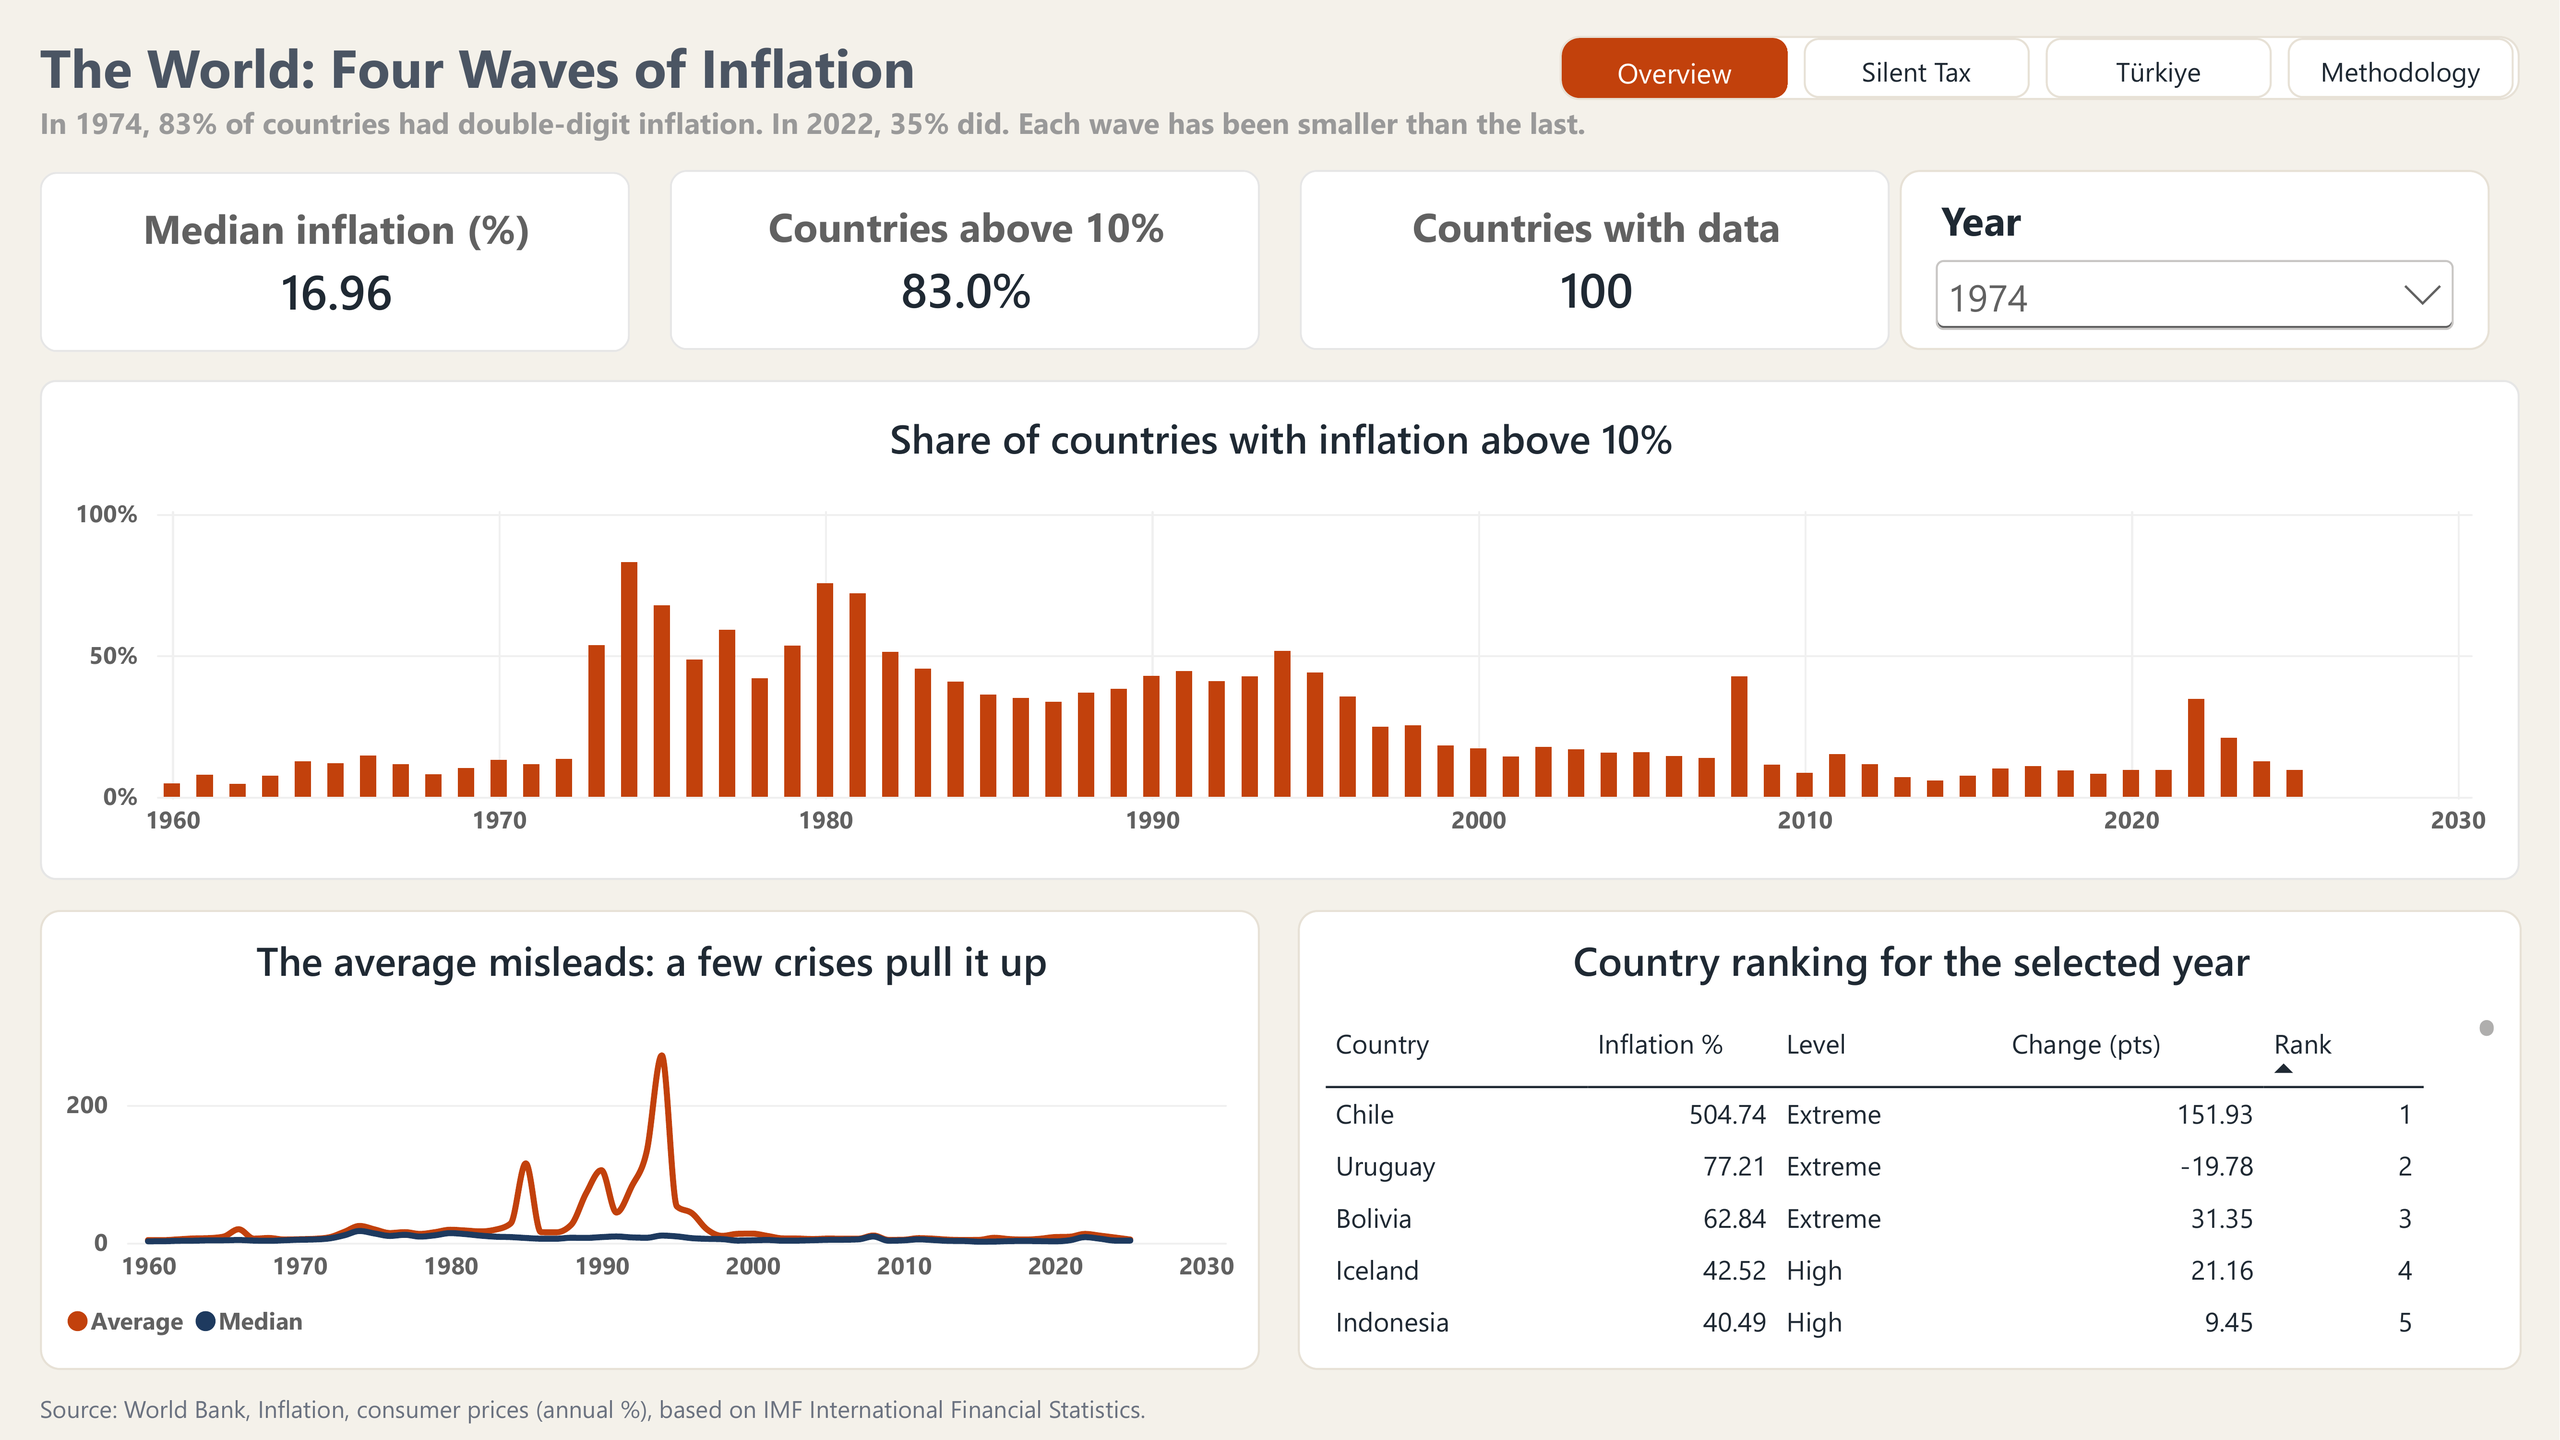

This screenshot's page, from the dashboard's own definition file:
{"tool":"powerbi","page":{"name":"Overview","canvas":[1280,720],"ordinal":0},"visuals":[{"type":"cardVisual","fields":{"Data":["Inflation.% Countries Above 10%"]},"box":[335,85,295,90],"z":0},{"type":"cardVisual","fields":{"Data":["Inflation.Medina Inflation"]},"box":[20,86,295,90],"z":1000},{"type":"lineChart","title":"The average misleads: a few crises pull it up","fields":{"Category":["Calendar.Year"],"Y":["Inflation.AVG Inflation","Inflation.Medina Inflation"]},"box":[20,455,610,230],"z":2000},{"type":"clusteredColumnChart","title":"Share of countries with inflation above 10%","fields":{"Category":["Calendar.Year"],"Y":["Inflation.% Countries Above 10%"]},"box":[20,190,1240,250],"z":3000},{"type":"slicer","fields":{"Values":["Calendar.Year"]},"box":[950,85,295,90],"z":4000},{"type":"tableEx","title":"Country ranking for the selected year","fields":{"Values":["Countries.Country Name","Inflation.Median Inflation","Inflation.Inflation Level","Inflation.Change vs LY","Inflation.Rank"]},"box":[649.5,455.4,611.5,230],"z":5000},{"type":"cardVisual","fields":{"Data":["Inflation.Countries Reporting"]},"box":[650,85,295,90],"z":6000},{"type":"textbox","box":[20,15,1240,60],"z":7000},{"type":"textbox","box":[20,695,1240.6,22],"z":8000},{"type":"pageNavigator","box":[780,18,480,32],"z":9000}]}

Visuals, with their boxes in screenshot pixels (x1, y1, x2, y2), scaled from the page's 1280x720 canvas onto the 2560x1440 screenshot:
cardVisual - Inflation.% Countries Above 10%: bbox=(670, 170, 1260, 350)
cardVisual - Inflation.Medina Inflation: bbox=(40, 172, 630, 352)
"The average misleads: a few crises pull it up" lineChart: bbox=(40, 910, 1260, 1370)
"Share of countries with inflation above 10%" clusteredColumnChart: bbox=(40, 380, 2520, 880)
slicer - Calendar.Year: bbox=(1900, 170, 2490, 350)
"Country ranking for the selected year" tableEx: bbox=(1299, 911, 2522, 1371)
cardVisual - Inflation.Countries Reporting: bbox=(1300, 170, 1890, 350)
textbox: bbox=(40, 30, 2520, 150)
textbox: bbox=(40, 1390, 2521, 1434)
pageNavigator: bbox=(1560, 36, 2520, 100)
